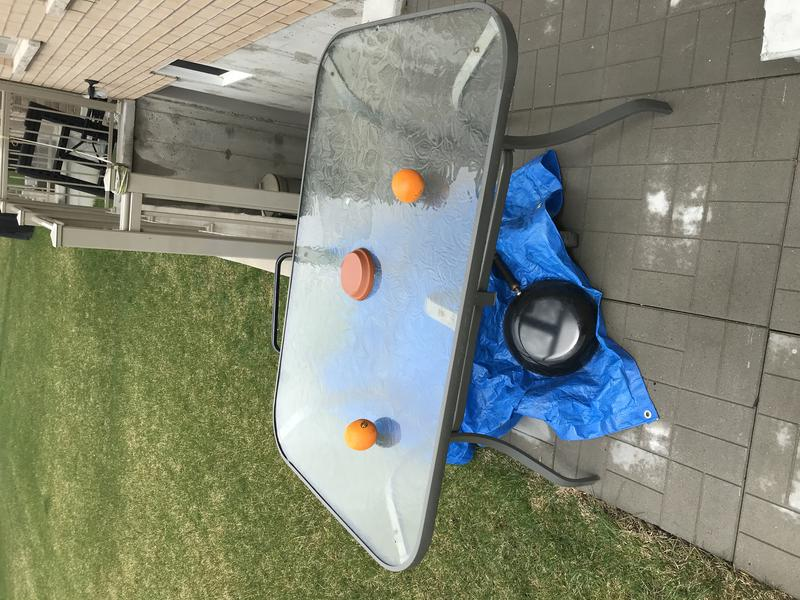orange: (342, 415, 383, 459), (386, 167, 426, 203)
